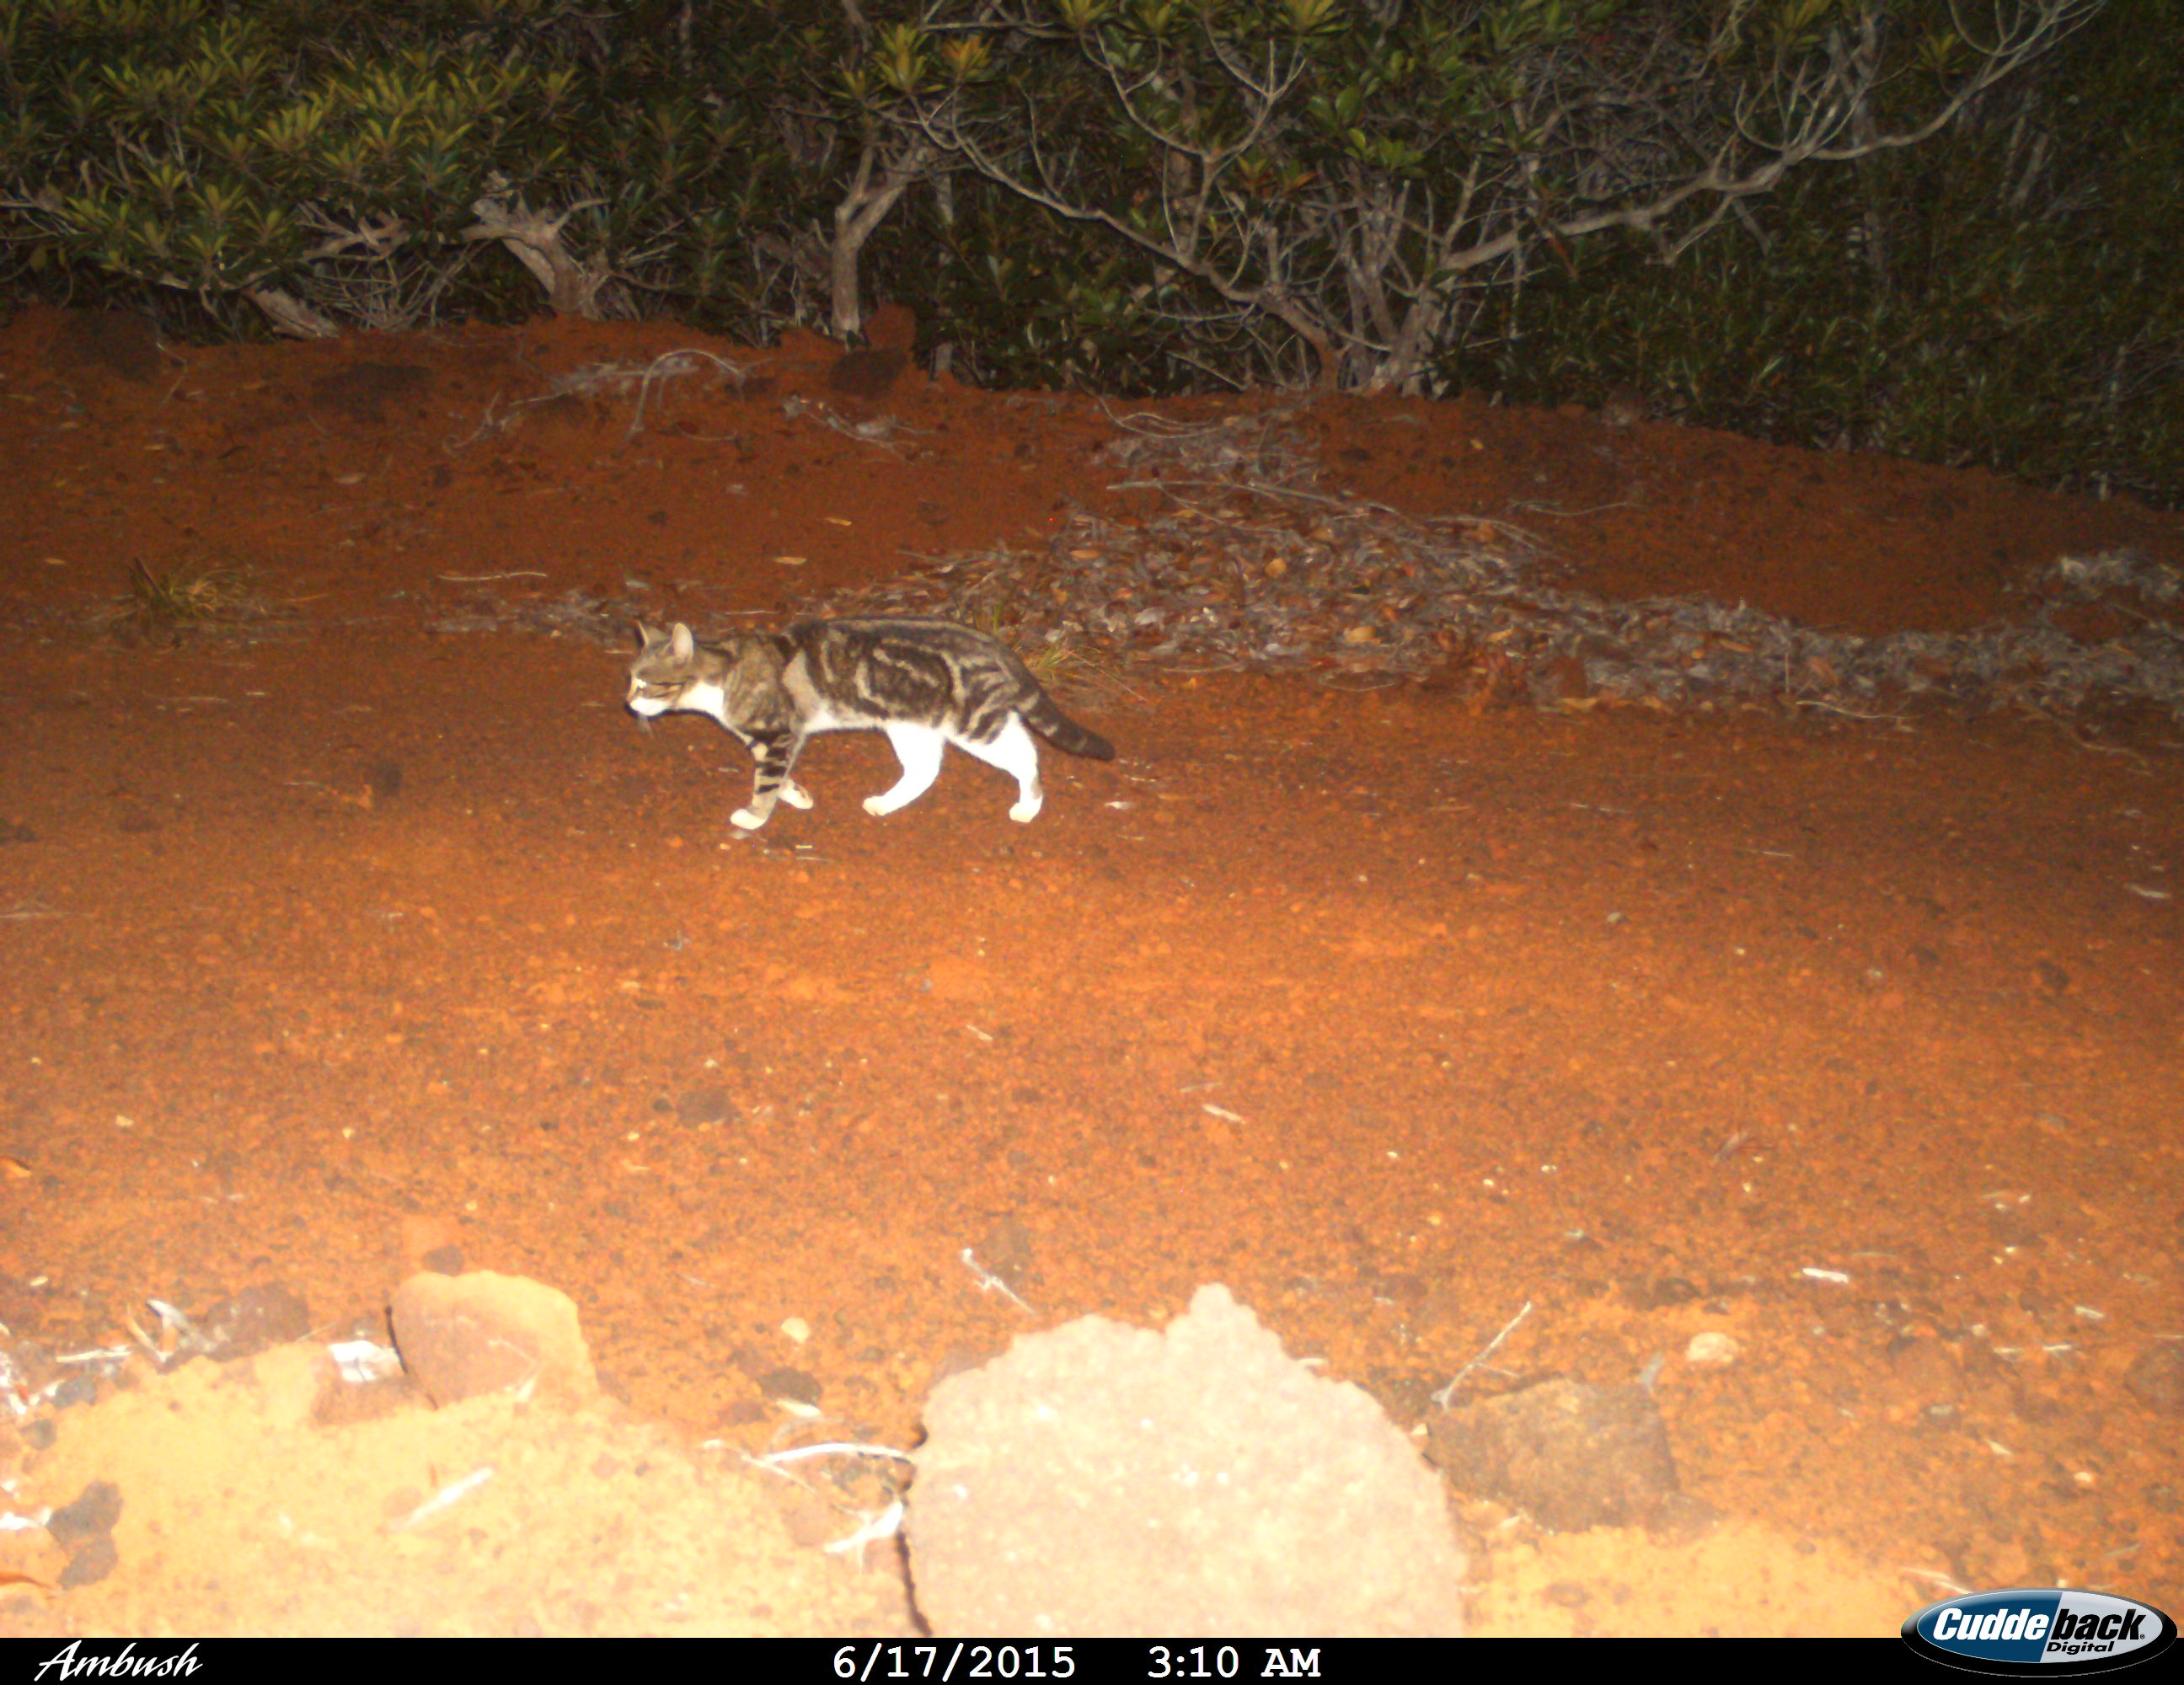cat: (621, 605, 1129, 837)
